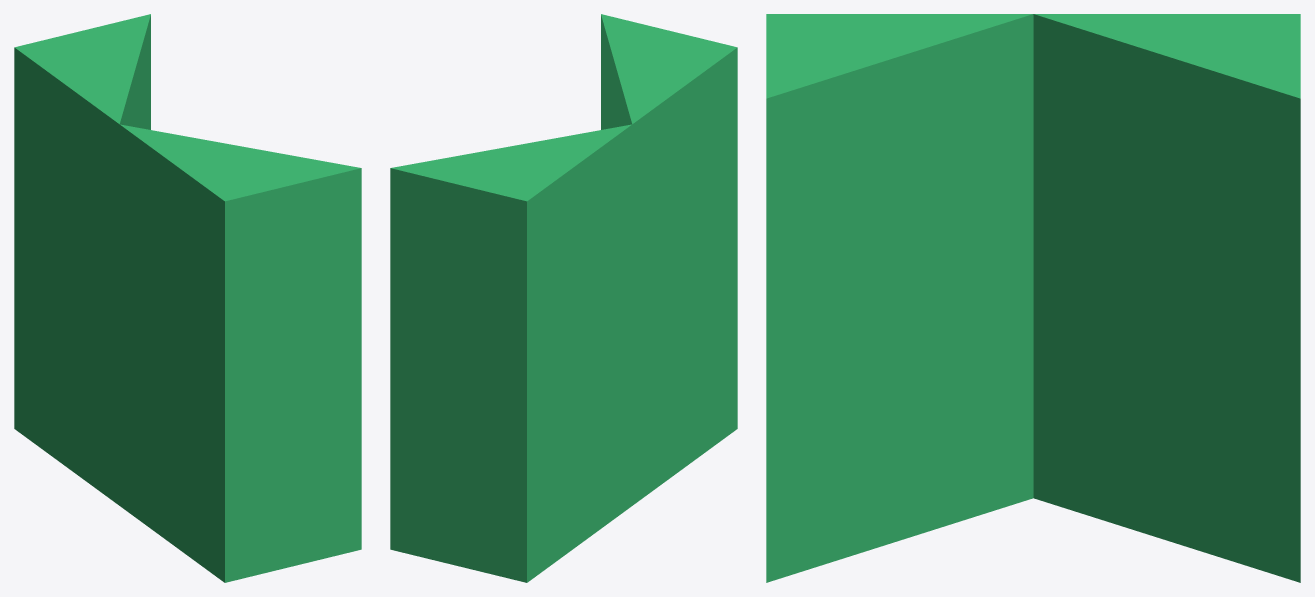
Rendered from r3c7_body_green.gltf.
The picture shows the model from 3 angles, left to right: view 1: azimuth 30°, elevation 25°; view 2: azimuth 150°, elevation 25°; view 3: azimuth 270°, elevation 25°; orthographic projection. The views are drawn at different scales.
Visible parts, largest first — view 1: r3c7_body_green; view 2: r3c7_body_green; view 3: r3c7_body_green.
Boxes of the visible parts, box(x1,y1,x2,y2) form: r3c7_body_green: box(14, 14, 361, 582); r3c7_body_green: box(390, 14, 737, 582); r3c7_body_green: box(766, 14, 1300, 582).
Size of what is drawn, in the model's own units: 0.75 by 2 by 2.
1 material, 1 textured.
